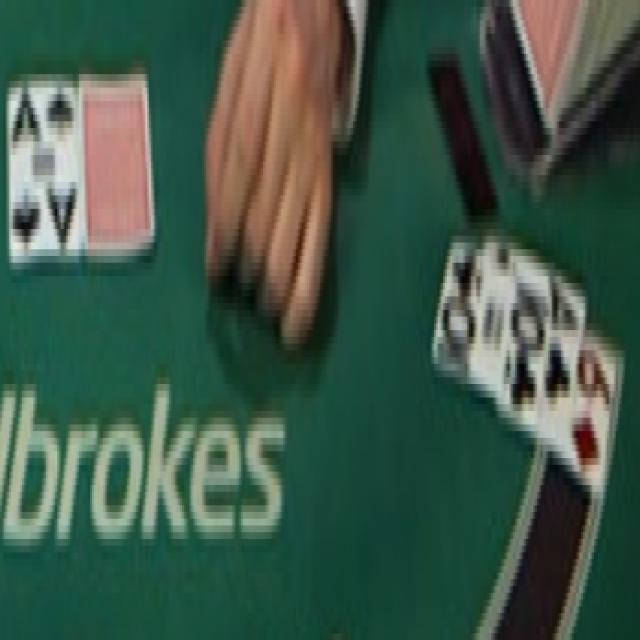Card-10: (432, 240, 549, 438)
Card-6: (539, 329, 619, 494)
Card-A: (485, 228, 585, 406), (8, 83, 81, 264)
